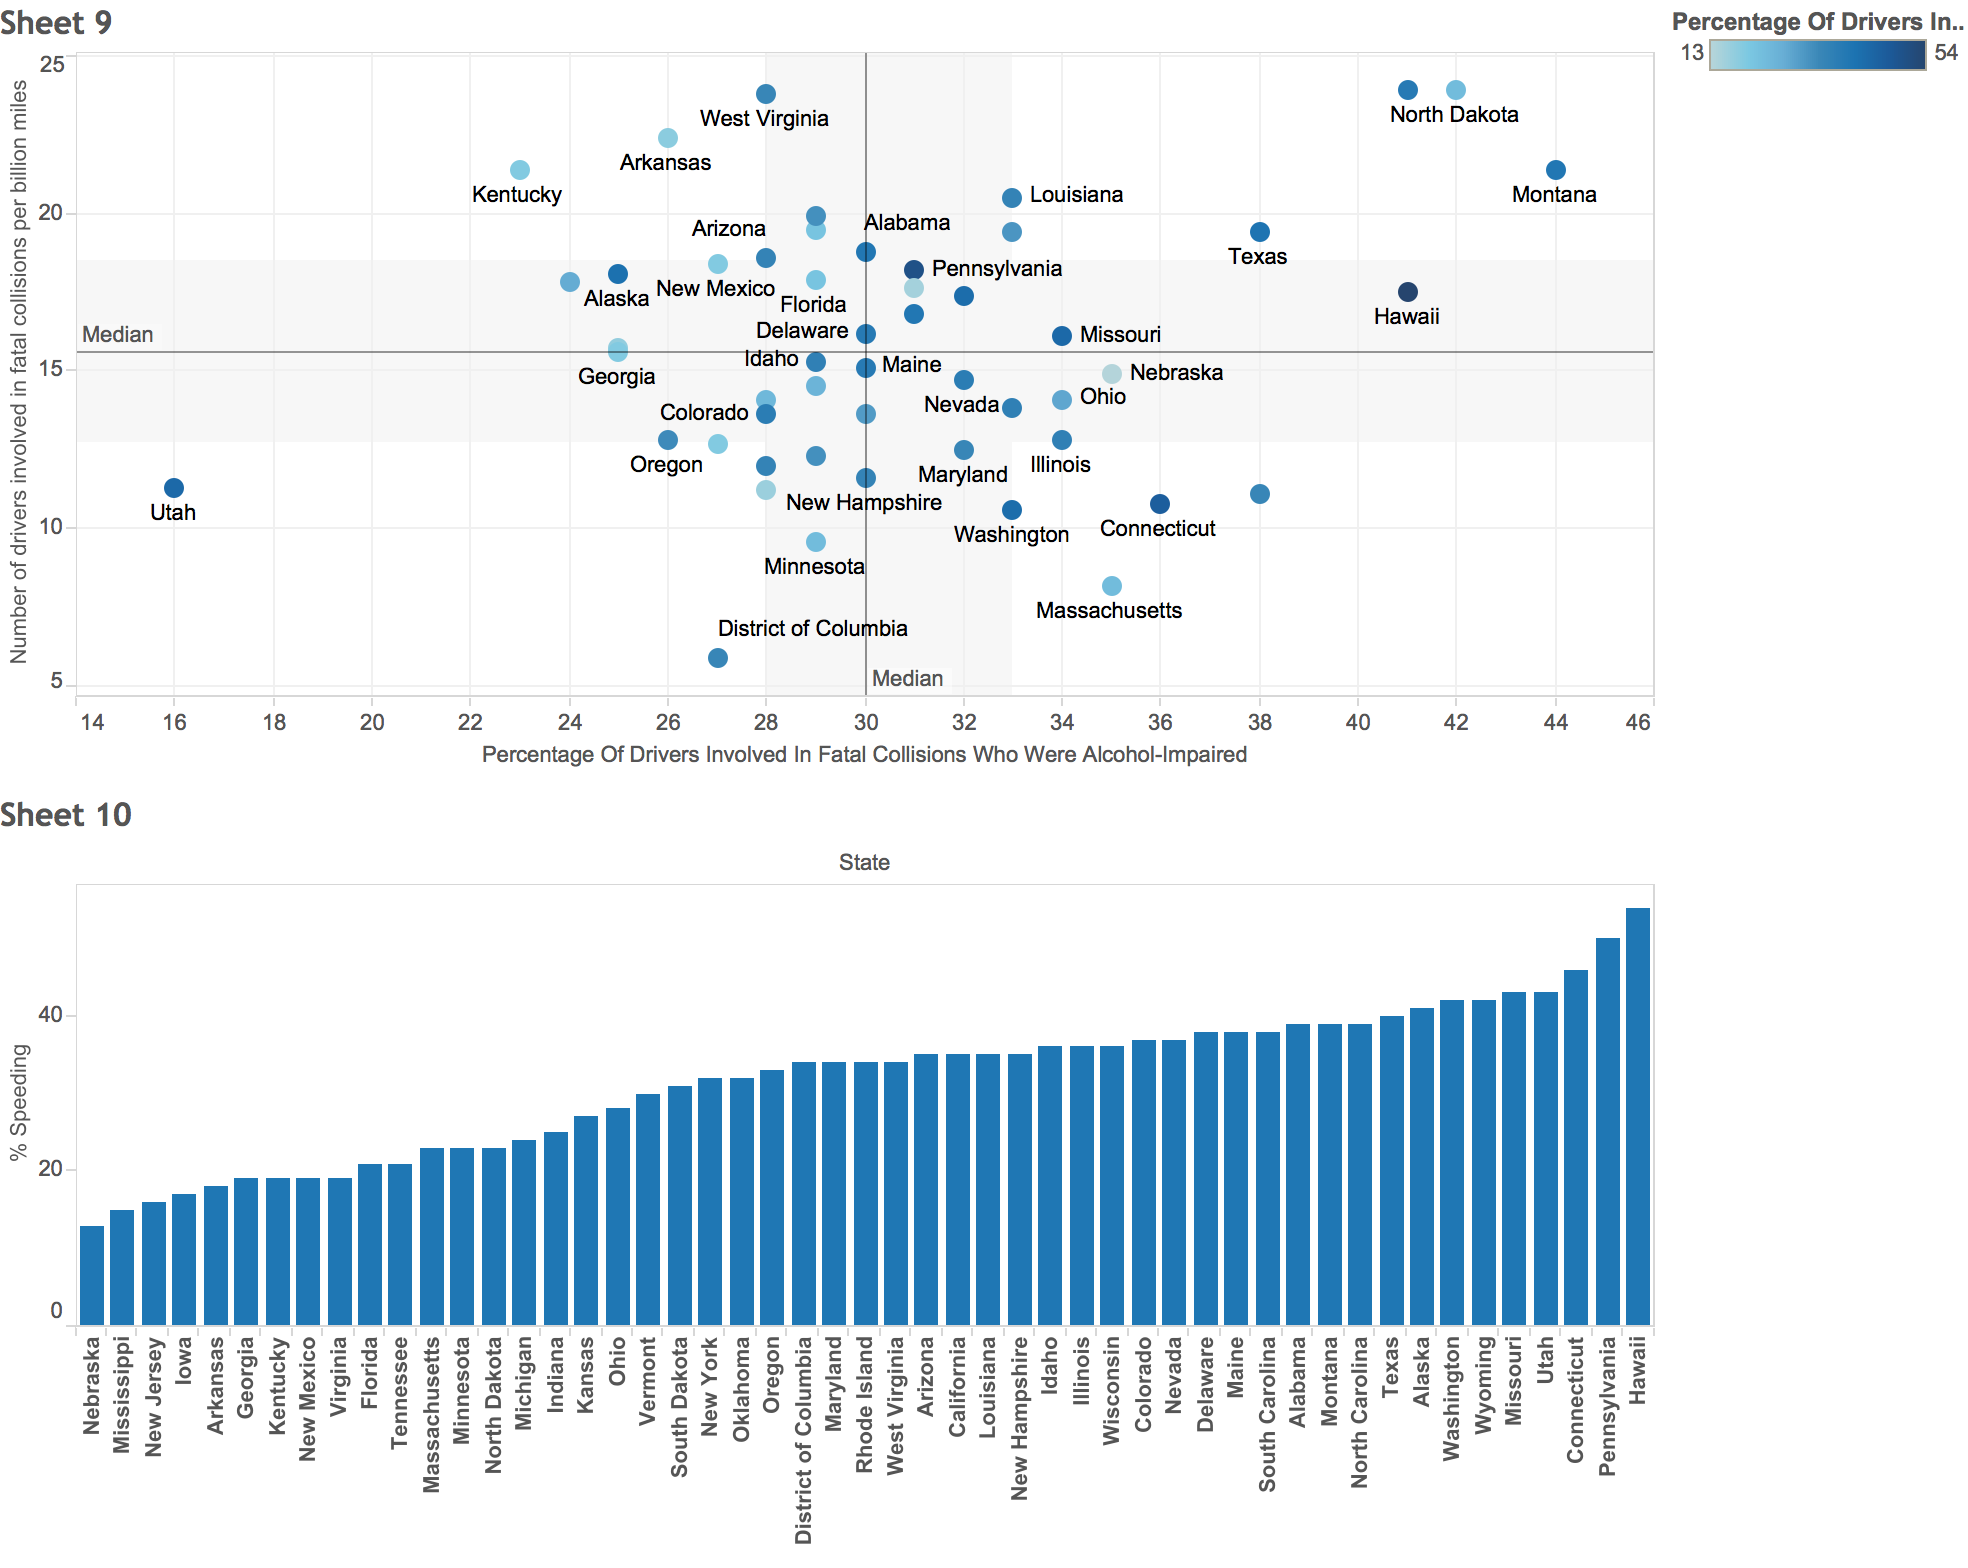

The page's visual inventory and layout, read from the dashboard file:
{"tool":"tableau","page":{"name":"Dashboard 2","canvas":[1000,800],"ordinal":1},"visuals":[{"type":"worksheet","title":"Sheet 9","mark":"Circle","rows":["Number of drivers involved in fatal collisions per billion m"],"cols":["Percentage Of Drivers Involved In Fatal Collisions Who Were "],"box":[0,0,840,400]},{"type":"legend","title":"Sheet 9","param":"[textscan.0g8ufvw1q3f0x91awitfy1yd826i].[sum:Percentage Of Drivers Involved In F","box":[840,0,160,62]},{"type":"worksheet","title":"Sheet 10","mark":"Automatic","rows":["Percentage Of Drivers Involved In Fatal Collisions Who Were "],"cols":["State"],"box":[0,400,840,400]}]}

Visuals, with their boxes in screenshot pixels (x1, y1, x2, y2), scaled from the page's 1000x800 canvas onto the 1968x1568 screenshot:
"Sheet 9" worksheet (Circle marks): {"x1": 0, "y1": 0, "x2": 1653, "y2": 784}
"Sheet 9" legend: {"x1": 1653, "y1": 0, "x2": 1967, "y2": 122}
"Sheet 10" worksheet: {"x1": 0, "y1": 784, "x2": 1653, "y2": 1567}
